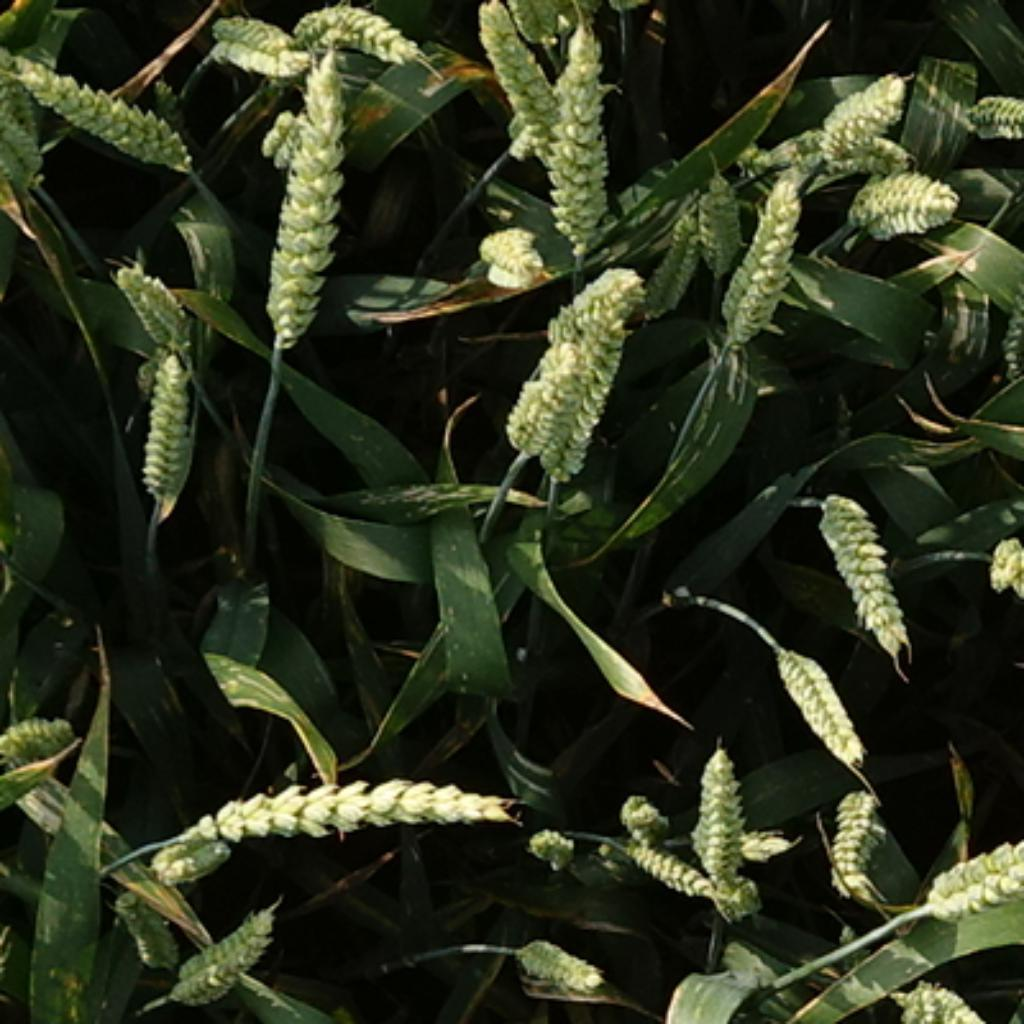0-0: (128, 747, 509, 860), (253, 61, 366, 358), (479, 4, 603, 201), (12, 43, 197, 171), (806, 478, 913, 642), (716, 171, 808, 348), (542, 320, 632, 488), (765, 629, 872, 757), (130, 335, 207, 506), (496, 322, 586, 468), (163, 896, 284, 1003), (496, 62, 617, 163), (537, 256, 660, 345), (803, 61, 911, 156), (686, 742, 752, 896), (750, 130, 931, 186), (918, 832, 1024, 927), (553, 40, 600, 247), (844, 156, 962, 235), (629, 199, 698, 330), (294, 2, 430, 64), (686, 166, 757, 284), (104, 250, 192, 343), (202, 2, 302, 79), (821, 778, 890, 885), (614, 829, 714, 896), (110, 882, 184, 972), (506, 924, 604, 990), (2, 704, 84, 768), (884, 978, 997, 1024), (140, 843, 240, 889), (471, 225, 542, 289), (693, 867, 770, 916), (721, 819, 811, 860), (998, 232, 1024, 373), (960, 81, 1024, 133), (614, 783, 673, 837), (987, 529, 1024, 611), (522, 819, 578, 862)
